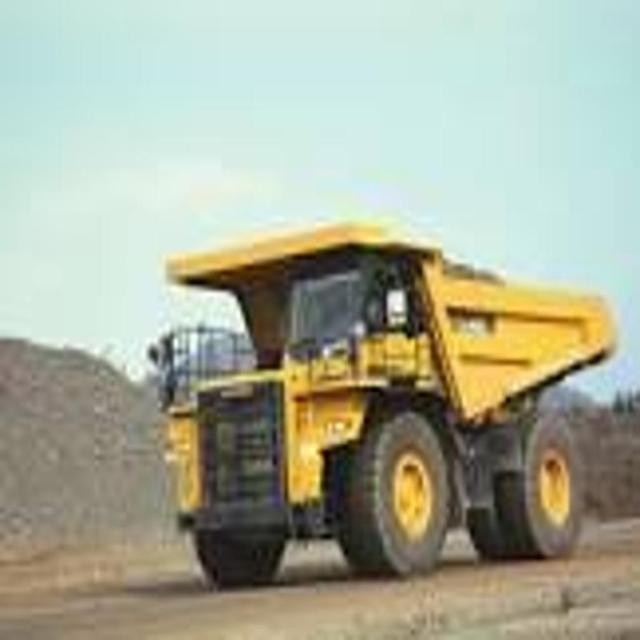dump_truck: (153, 217, 620, 590)
